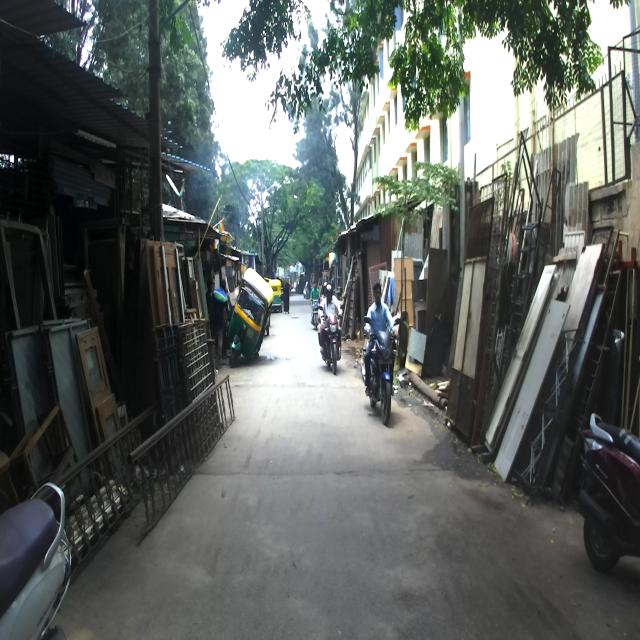auto ahead at: (226, 266, 273, 366)
motorcycle ahead at: (0, 480, 74, 640), (581, 406, 640, 576), (356, 317, 396, 431)
